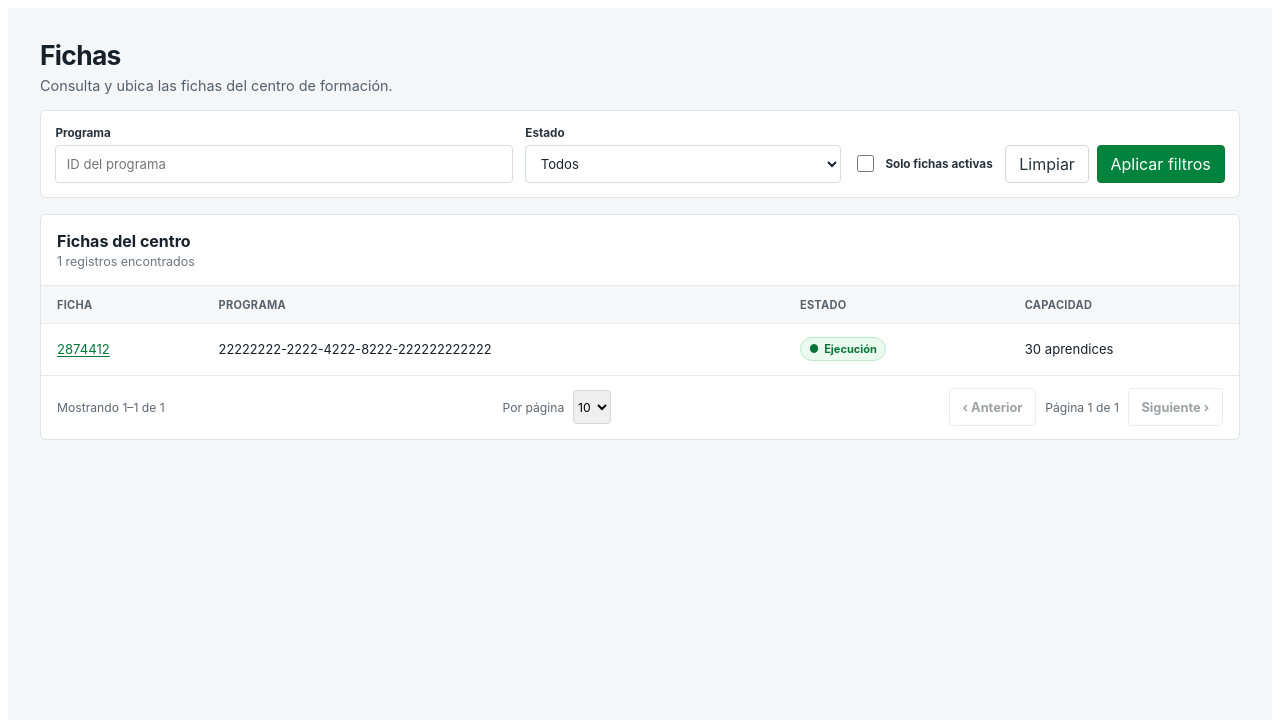
Scenario: FichasPage › consulta el detalle al abrir una ficha
Click the button "2874412" at x=83, y=349, box [57,341,110,357]
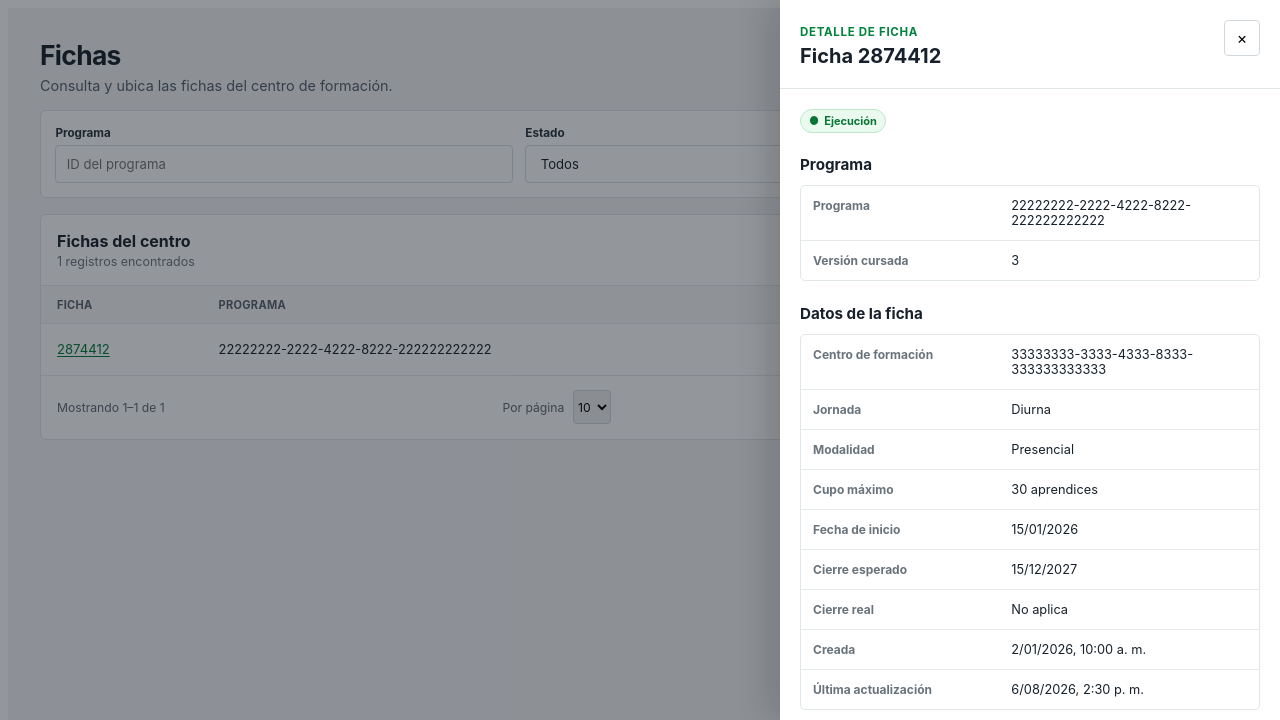
expect the heading "Ficha 2874412" is shown: met, box [800,44,941,68]
expect the text "Versión cursada" is shown: met, box [813,253,908,268]
